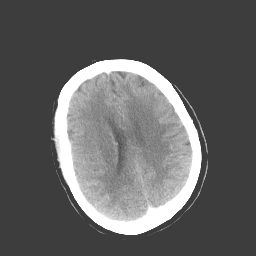ischemic: (75, 139, 115, 197)
